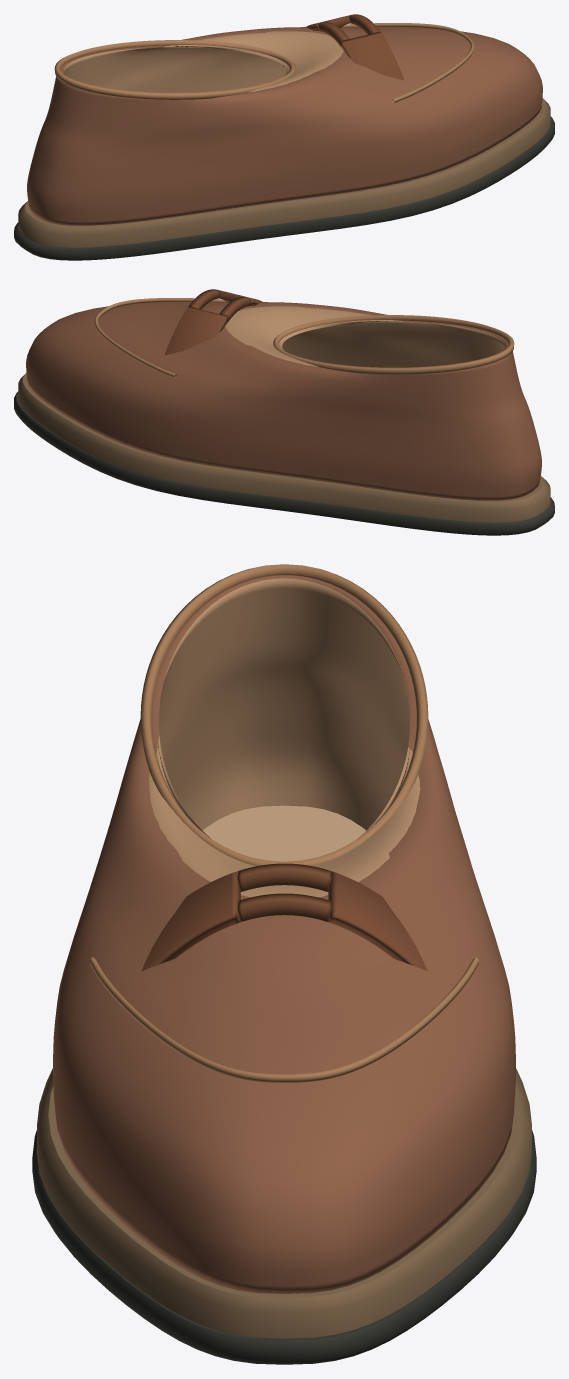
The model's file is loafer.glb.
The picture shows the model from 3 angles, top to bottom: view 1: azimuth 30°, elevation 25°; view 2: azimuth 150°, elevation 25°; view 3: azimuth 270°, elevation 25°; orthographic projection. The views are drawn at different scales.
Parts seen in each view (by area): view 1: hollow-upper-and-open-collar, layered-midsole, rubber-outsole, rolled-open-collar-edge, penny-band-left, raised-moccasin-vamp-seam, penny-slot-edge (×2); view 2: hollow-upper-and-open-collar, layered-midsole, rubber-outsole, rolled-open-collar-edge, penny-band-right, raised-moccasin-vamp-seam, penny-slot-edge (×2); view 3: hollow-upper-and-open-collar, layered-midsole, rubber-outsole, rolled-open-collar-edge, visible-insole-footbed, penny-band-left, penny-band-right, penny-slot-edge (×2), raised-moccasin-vamp-seam.
Boxes of the visible parts, <box> form: hollow-upper-and-open-collar: <box>27,26,542,225</box>; layered-midsole: <box>18,98,550,247</box>; rubber-outsole: <box>14,116,554,260</box>; rolled-open-collar-edge: <box>54,40,295,99</box>; penny-band-left: <box>341,31,404,80</box>; raised-moccasin-vamp-seam: <box>342,23,474,102</box>; penny-slot-edge (×2): <box>318,14,380,46</box>; hollow-upper-and-open-collar: <box>26,301,541,500</box>; layered-midsole: <box>18,373,550,522</box>; rubber-outsole: <box>14,391,554,535</box>; rolled-open-collar-edge: <box>273,315,514,374</box>; penny-band-right: <box>164,306,227,355</box>; raised-moccasin-vamp-seam: <box>94,298,226,377</box>; penny-slot-edge (×2): <box>188,289,250,321</box>; hollow-upper-and-open-collar: <box>53,574,515,1293</box>; layered-midsole: <box>37,1068,531,1338</box>; rubber-outsole: <box>32,1130,536,1364</box>; rolled-open-collar-edge: <box>140,564,428,865</box>; visible-insole-footbed: <box>203,805,365,861</box>; penny-band-left: <box>141,871,240,971</box>; penny-band-right: <box>328,871,427,971</box>; penny-slot-edge (×2): <box>237,863,331,921</box>; raised-moccasin-vamp-seam: <box>89,957,479,1082</box>.
Size of the model in its own units: 0.253 by 0.0794 by 0.1053.
